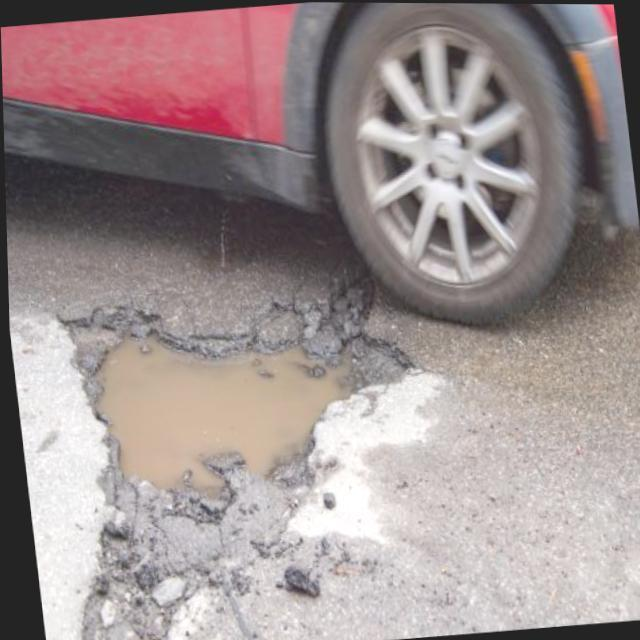Pothole: (48, 265, 435, 640)
